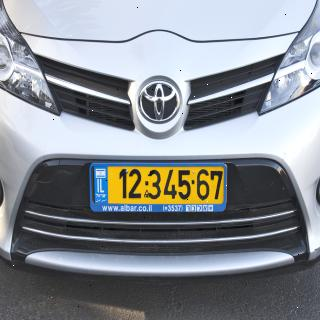license: (95, 165, 222, 219)
